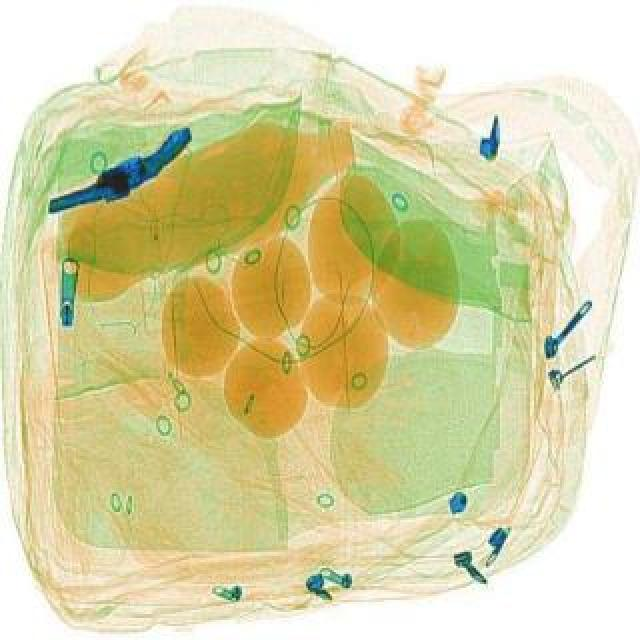gun: (38, 120, 208, 230)
